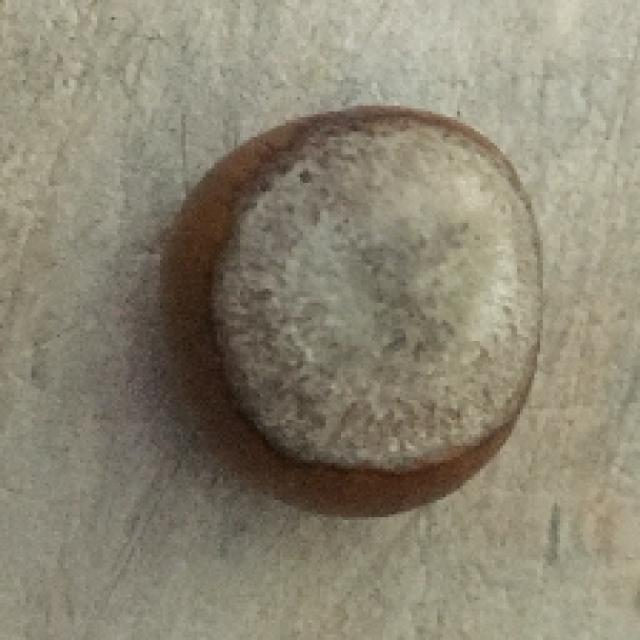qualityHazelnut: (145, 88, 540, 533)
